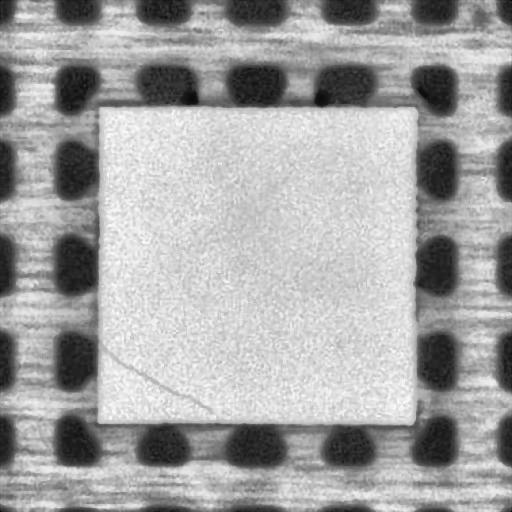DIE_CRACK: (99, 339, 215, 413)
